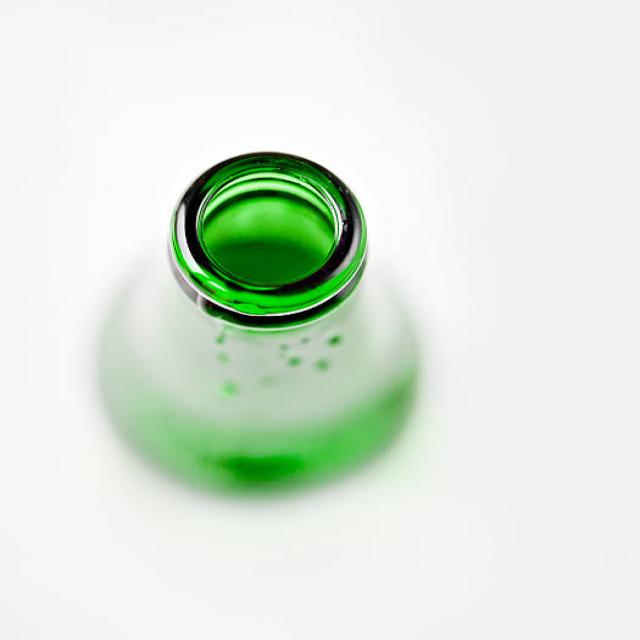electronic: (92, 149, 427, 511)
